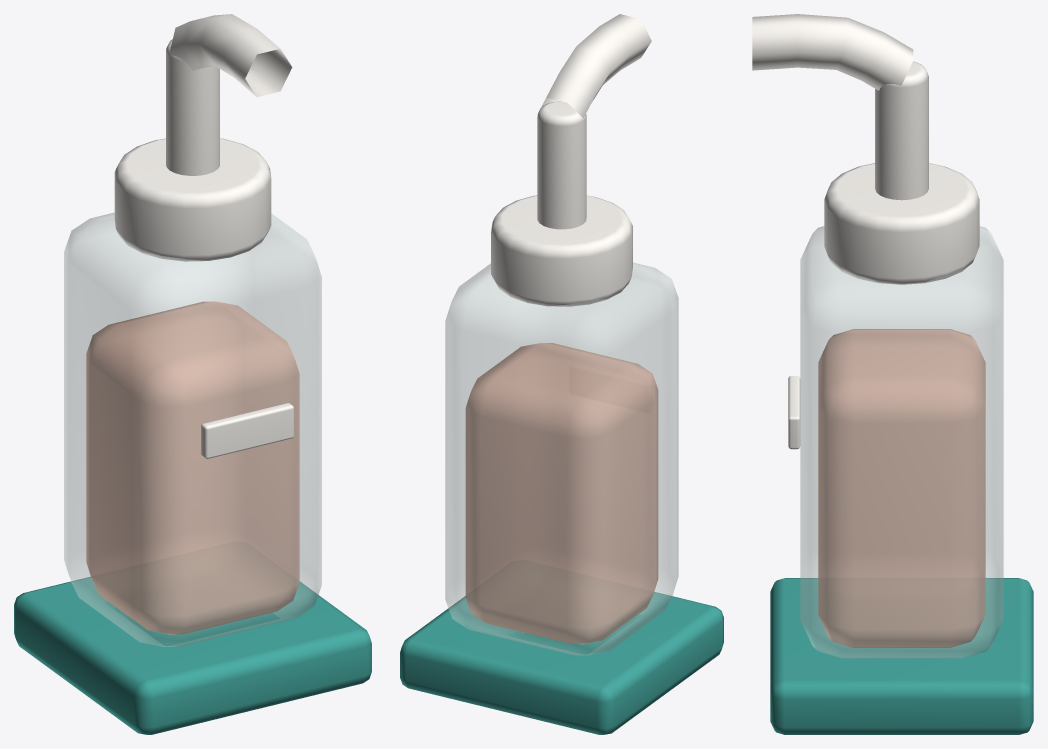
File: sugar_pump.glb
3 views of the same model, side by side, from view 1: azimuth 30°, elevation 25°; view 2: azimuth 150°, elevation 25°; view 3: azimuth 270°, elevation 25° (orthographic). The views are drawn at different scales.
Parts seen in each view (by area): view 1: Glass, Tint_TintLiquid, MintDark, Cream; view 2: Glass, Tint_TintLiquid, MintDark, Cream; view 3: Glass, Tint_TintLiquid, Cream, MintDark.
Part boxes in pixels (x1,y1,x2,y2): Glass: [64, 213, 321, 646]; Tint_TintLiquid: [86, 301, 299, 634]; MintDark: [14, 576, 371, 734]; Cream: [114, 14, 293, 458]; Glass: [445, 262, 678, 655]; Tint_TintLiquid: [465, 343, 658, 644]; MintDark: [400, 592, 723, 734]; Cream: [491, 14, 651, 306]; Glass: [800, 226, 1003, 658]; Tint_TintLiquid: [818, 329, 985, 647]; Cream: [752, 14, 979, 449]; MintDark: [770, 578, 1033, 734].
Size of the model in its own units: 0.09 by 0.2449 by 0.094.
